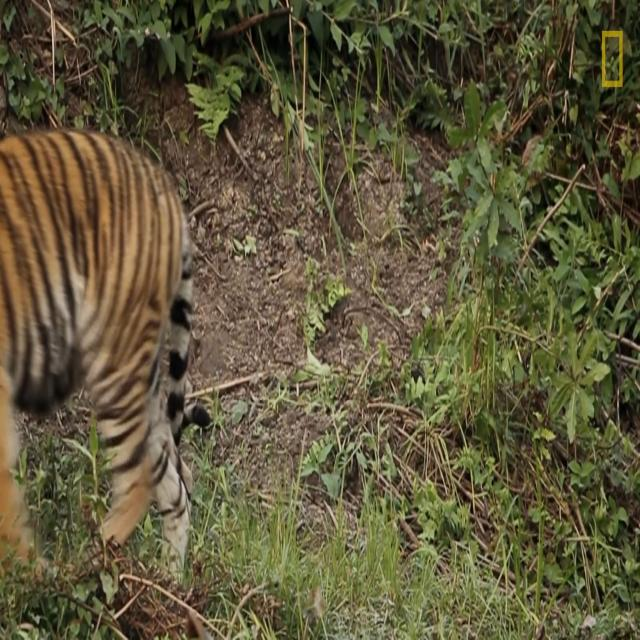TIGER: (1, 132, 198, 582)
